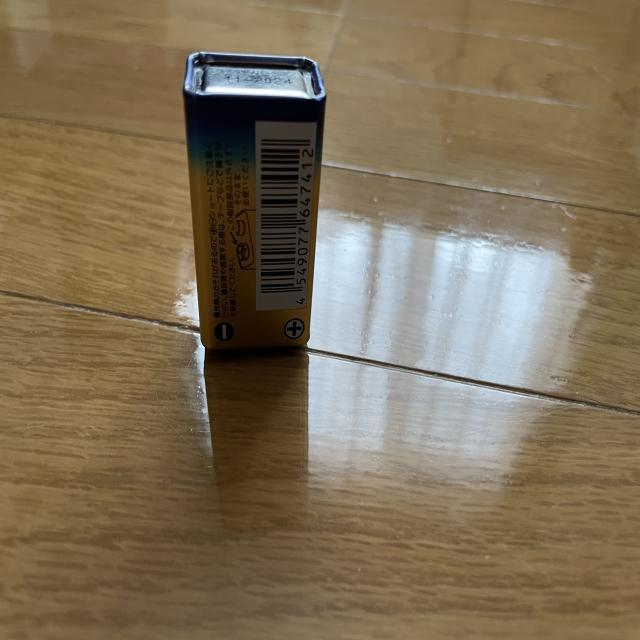9V: (182, 51, 326, 352)
